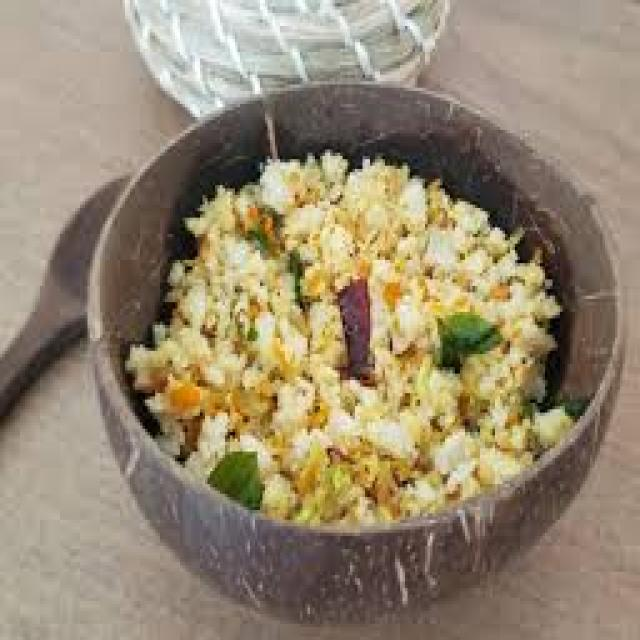UPMA: (128, 153, 568, 523)
